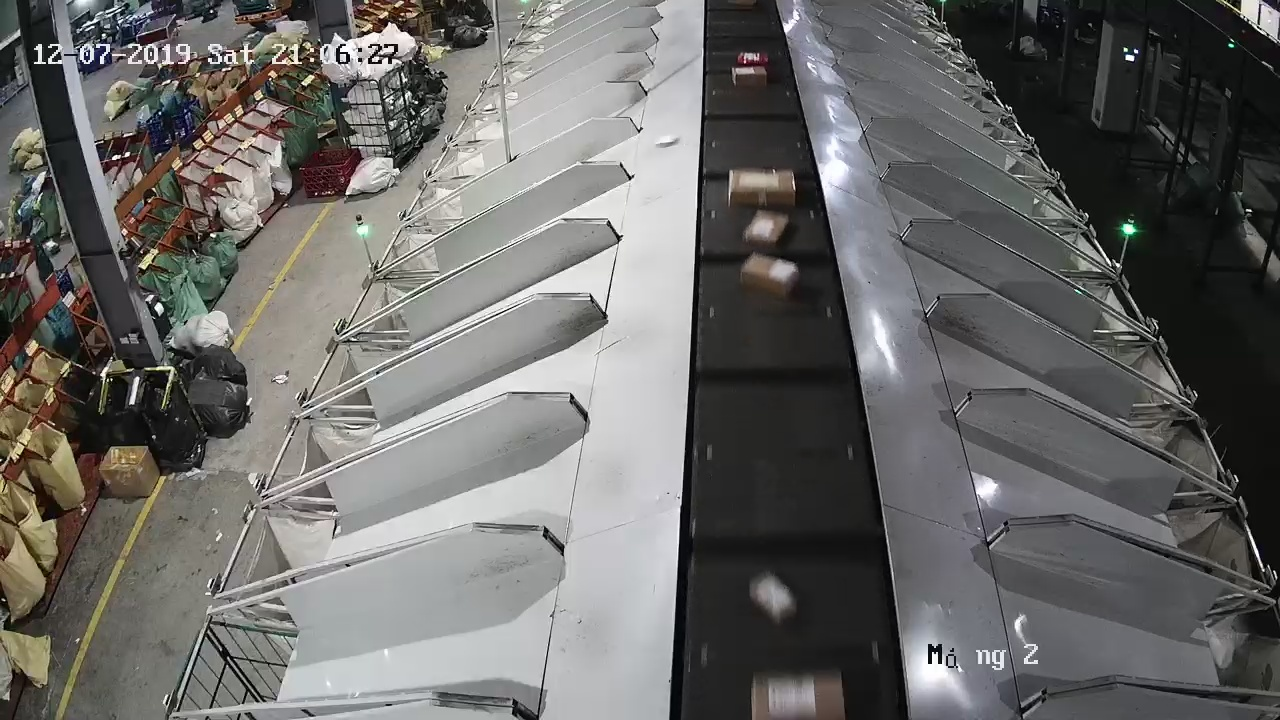parcel: (655, 134, 678, 147)
